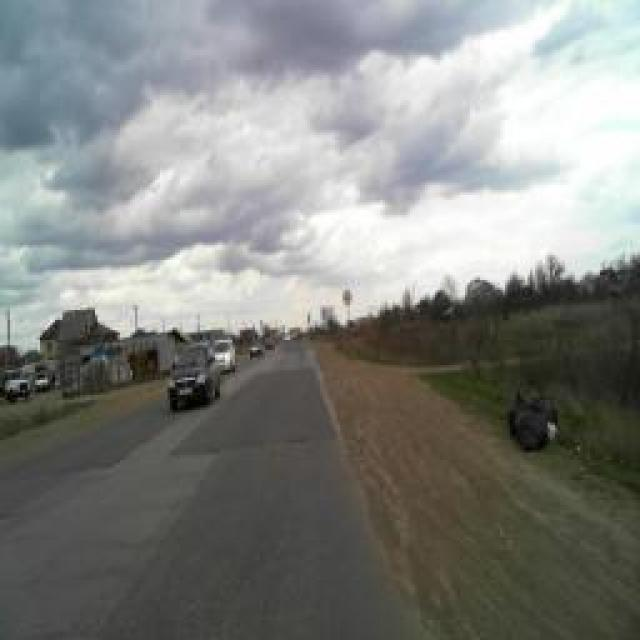sign: (342, 288, 352, 308)
